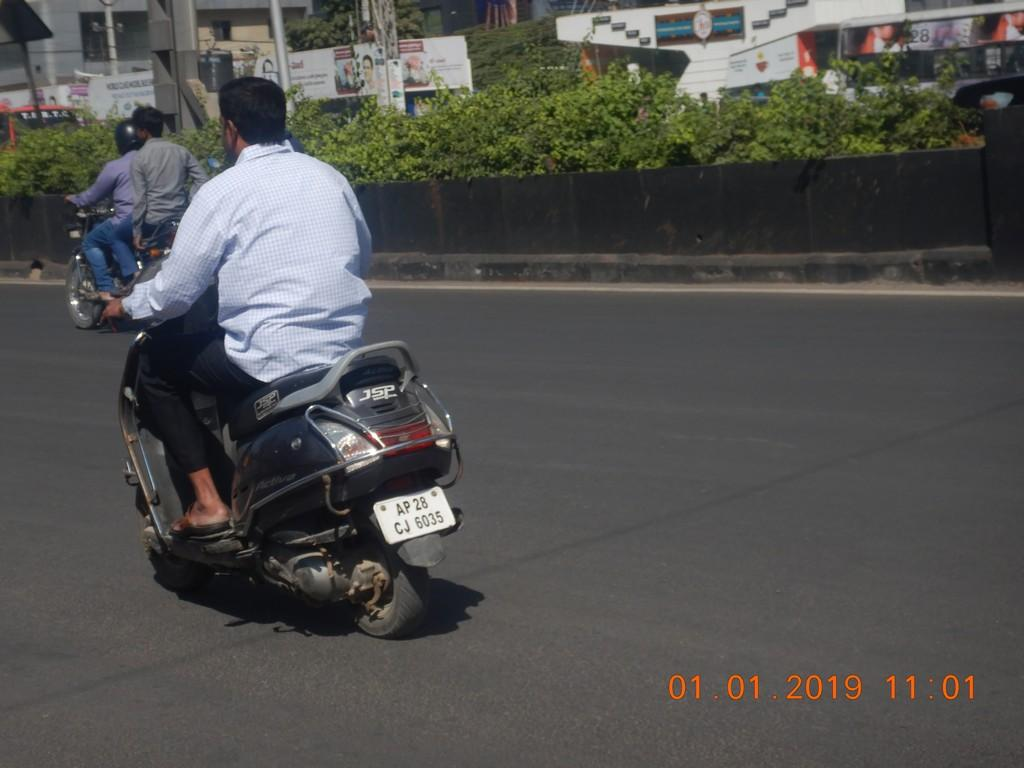plate: (380, 493, 453, 538)
